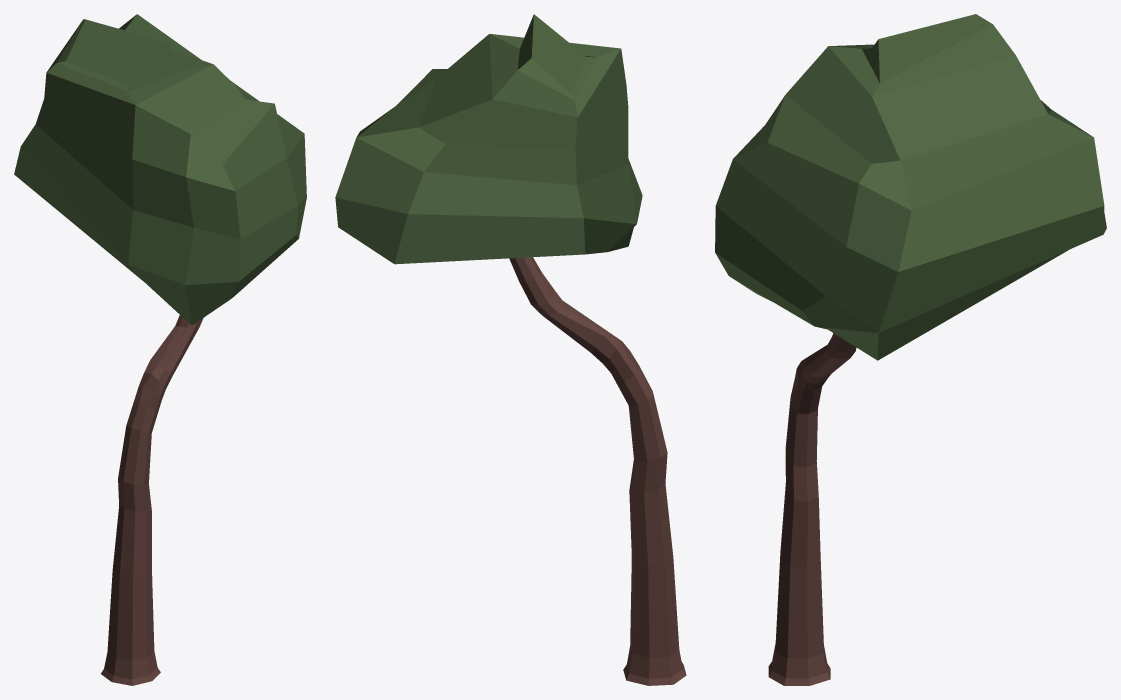
Rendered from orange_3.gltf.
The picture shows the model from 3 angles, left to right: view 1: azimuth 30°, elevation 25°; view 2: azimuth 150°, elevation 25°; view 3: azimuth 270°, elevation 25°; orthographic projection. The views are drawn at different scales.
Parts seen in each view (by area): view 1: orange_3; view 2: orange_3; view 3: orange_3.
Part boxes in pixels (x1,y1,x2,y2): orange_3: (14,14,306,685); orange_3: (335,14,686,685); orange_3: (715,14,1106,685).
Size of the model in its own units: 0.9217 by 2.12 by 1.12.
1 material, 1 textured.
